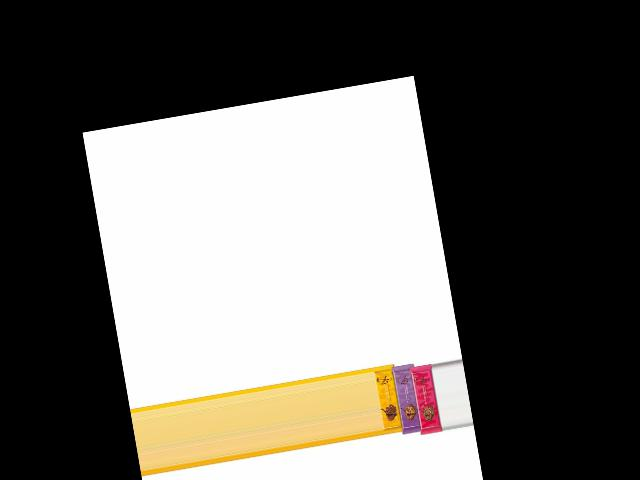chocolate: (409, 360, 444, 439)
